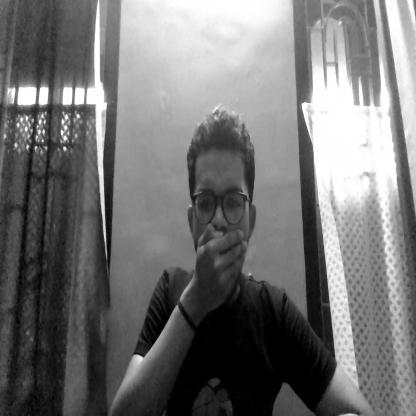Normal: (182, 111, 262, 290)
